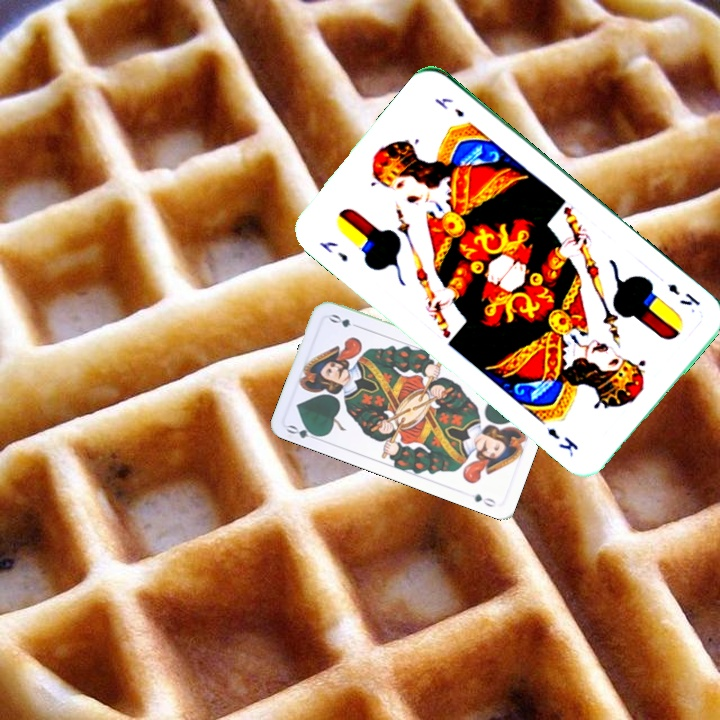EK: (664, 279, 703, 309), (316, 237, 351, 265)
GO: (283, 421, 324, 443)
